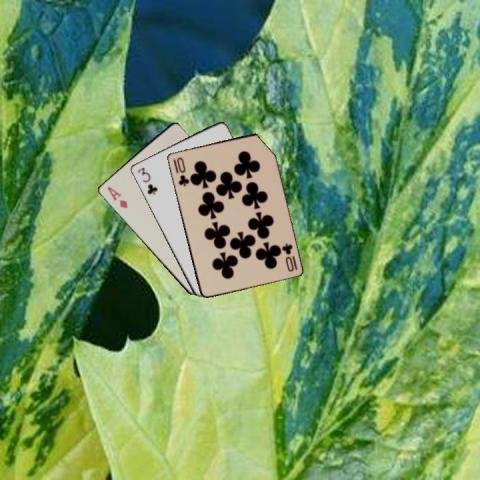10c: (278, 240, 299, 273), (170, 154, 190, 187)
3c: (134, 165, 159, 196)
Ad: (104, 183, 129, 210)
